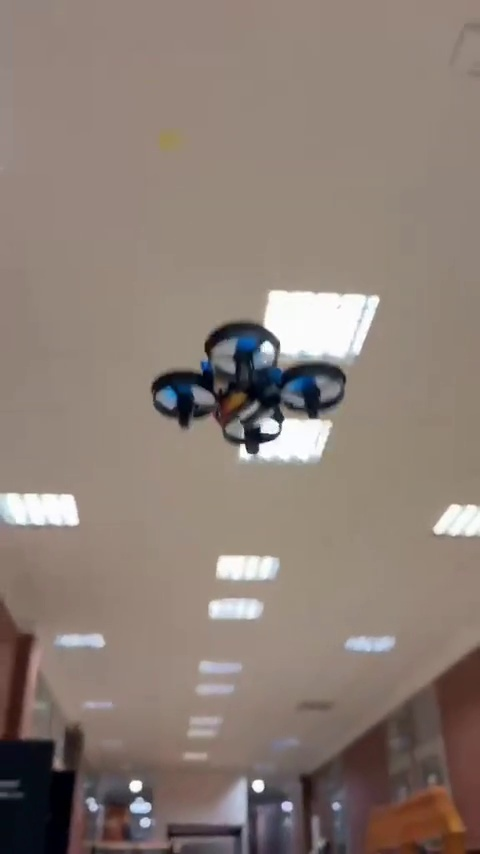drone: (149, 319, 345, 457)
